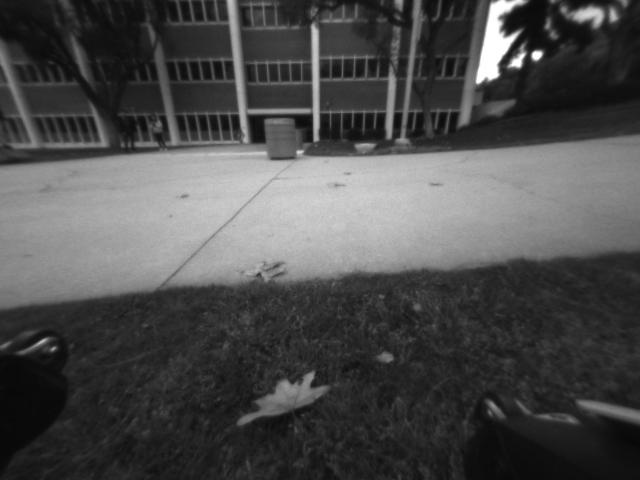trashcan: (262, 118, 295, 160)
